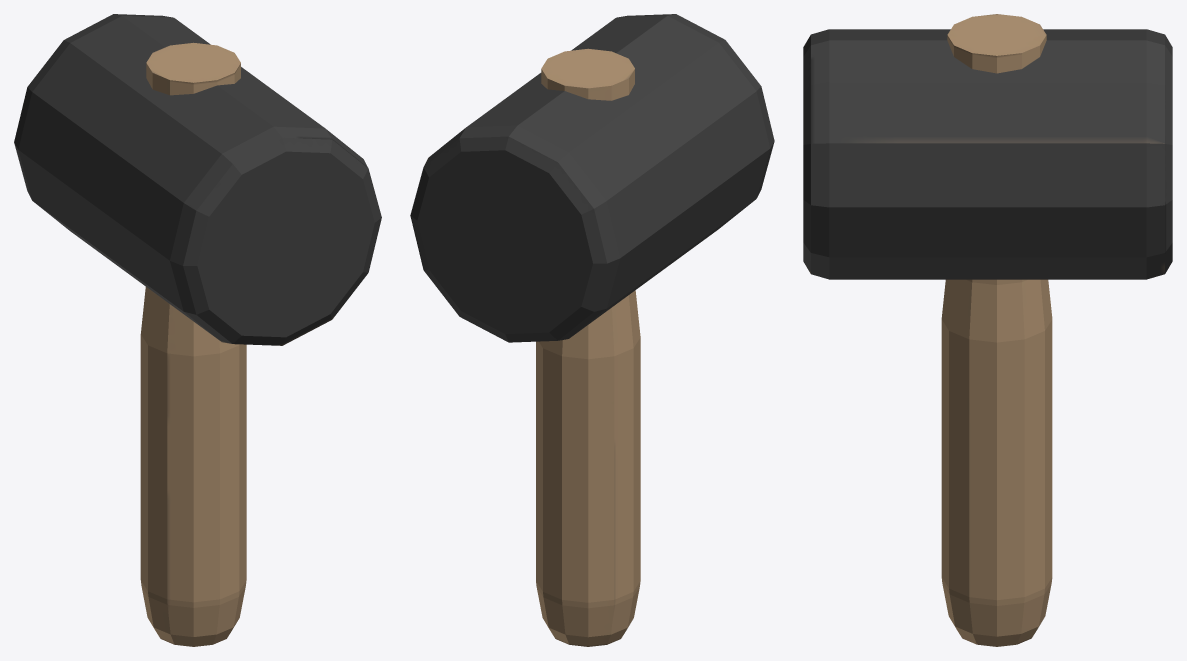
Rendered from malletcprsd.glb.
3 views of the same model, side by side, from view 1: azimuth 30°, elevation 25°; view 2: azimuth 150°, elevation 25°; view 3: azimuth 270°, elevation 25° (orthographic). The views are drawn at different scales.
Parts seen in each view (by area): view 1: Cylinder006; view 2: Cylinder006; view 3: Cylinder006.
Part boxes in pixels (x1=…): Cylinder006: x1=14, y1=14, x2=381, y2=646; Cylinder006: x1=410, y1=14, x2=774, y2=646; Cylinder006: x1=803, y1=14, x2=1172, y2=646.
Size of the model in its own units: 1.72 by 4.48 by 2.52.
1 material, 1 textured.
